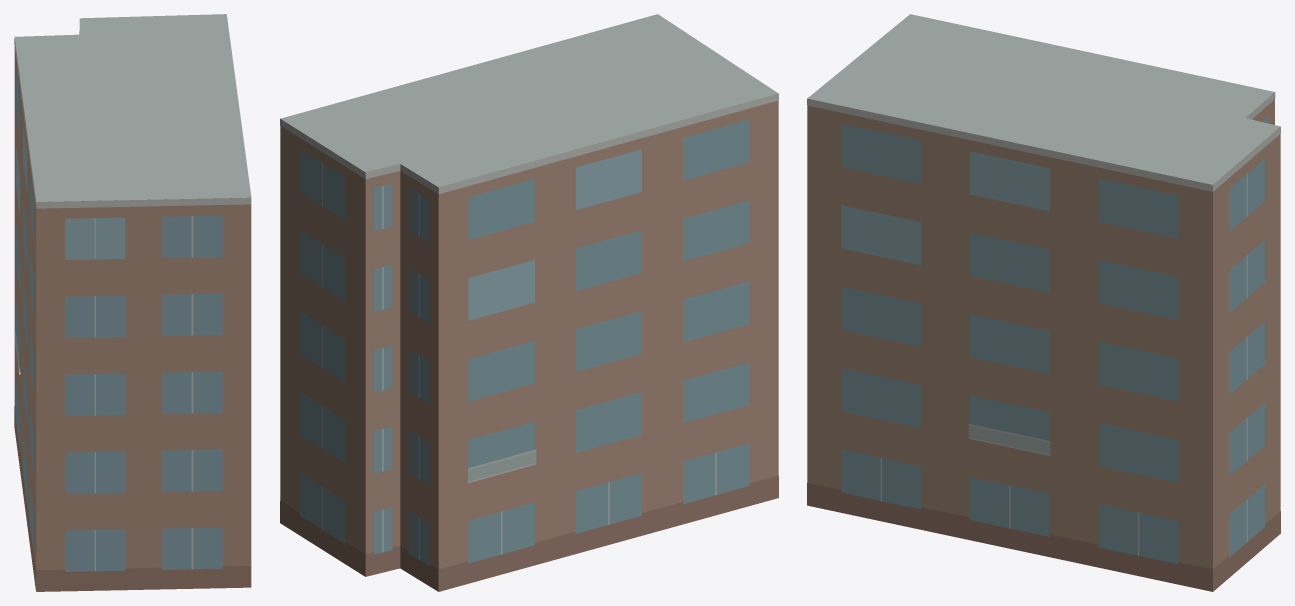
File: survey-upis-32951198.glb
The picture shows the model from 3 angles, left to right: view 1: azimuth 30°, elevation 25°; view 2: azimuth 150°, elevation 25°; view 3: azimuth 270°, elevation 25°; orthographic projection. The views are drawn at different scales.
Parts seen in each view (by area): view 1: survey-upis-32951198.tmp; view 2: survey-upis-32951198.tmp; view 3: survey-upis-32951198.tmp.
Part boxes in pixels (x1,y1,x2,y2): survey-upis-32951198.tmp: (14,14,251,591); survey-upis-32951198.tmp: (280,14,778,591); survey-upis-32951198.tmp: (807,14,1280,591).
Bounding box in the file's own units: 12.87 × 14.28 × 15.07.
